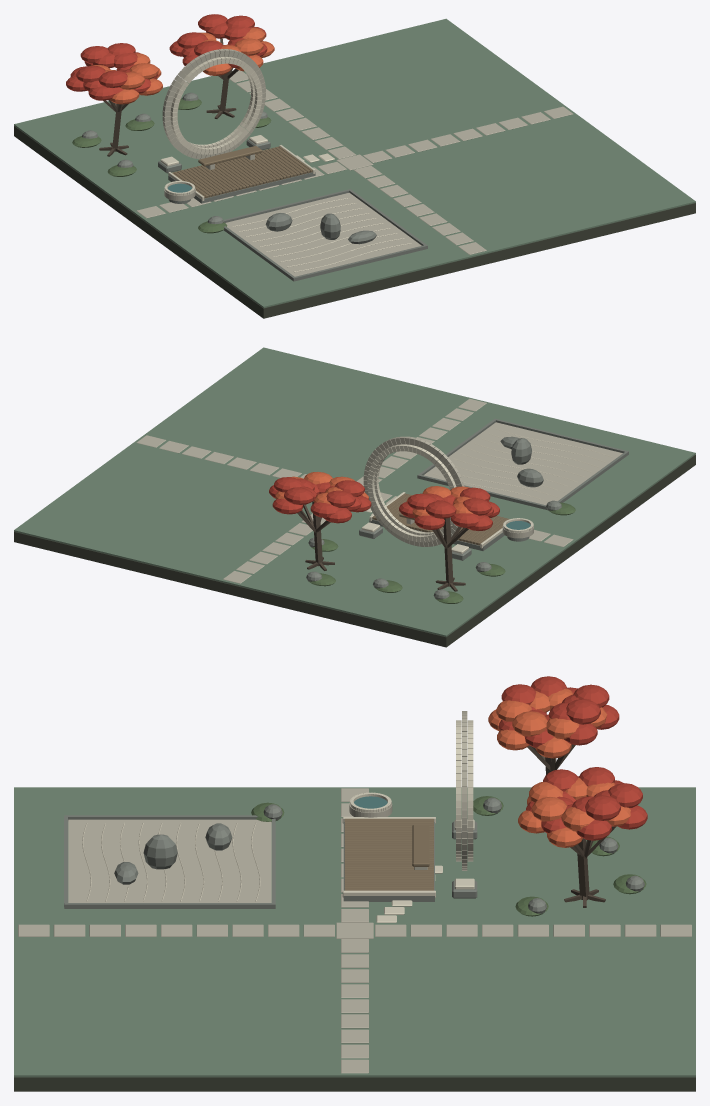
File: quiet_beginning-scene.glb
3 views of the same model, one above another, from view 1: azimuth 30°, elevation 25°; view 2: azimuth 150°, elevation 25°; view 3: azimuth 270°, elevation 25° (orthographic). The views are drawn at different scales.
Parts seen in each view (by area): view 1: runtime_Quiet / celadon turf, runtime_Quiet / warm limestone, runtime_Quiet / earth edge, runtime_Quiet / vermilion leaves, runtime_Quiet / shadow stone, runtime_Quiet / cut stone, runtime_Quiet / silver cedar, runtime_Quiet / copper leaves, runtime_Quiet / moss cushions, runtime_Quiet / maple bark; view 2: runtime_Quiet / celadon turf, runtime_Quiet / warm limestone, runtime_Quiet / earth edge, runtime_Quiet / vermilion leaves, runtime_Quiet / shadow stone, runtime_Quiet / cut stone, runtime_Quiet / maple bark, runtime_Quiet / copper leaves, runtime_Quiet / moss cushions, runtime_Quiet / silver cedar; view 3: runtime_Quiet / celadon turf, runtime_Quiet / warm limestone, runtime_Quiet / earth edge, runtime_Quiet / vermilion leaves, runtime_Quiet / shadow stone, runtime_Quiet / copper leaves, runtime_Quiet / silver cedar, runtime_Quiet / cut stone, runtime_Quiet / maple bark, runtime_Quiet / moss cushions.
Boxes of the visible parts, <box> form: runtime_Quiet / celadon turf: <box>14,18,695,308</box>; runtime_Quiet / warm limestone: <box>137,49,572,276</box>; runtime_Quiet / earth edge: <box>14,126,695,318</box>; runtime_Quiet / vermilion leaves: <box>66,14,267,100</box>; runtime_Quiet / shadow stone: <box>82,92,427,281</box>; runtime_Quiet / cut stone: <box>160,56,411,272</box>; runtime_Quiet / silver cedar: <box>172,146,312,198</box>; runtime_Quiet / copper leaves: <box>91,27,274,104</box>; runtime_Quiet / moss cushions: <box>72,98,271,233</box>; runtime_Quiet / maple bark: <box>99,38,238,156</box>; runtime_Quiet / celadon turf: <box>14,347,695,636</box>; runtime_Quiet / warm limestone: <box>136,398,622,583</box>; runtime_Quiet / earth edge: <box>14,454,695,647</box>; runtime_Quiet / vermilion leaves: <box>269,477,499,530</box>; runtime_Quiet / shadow stone: <box>306,418,628,599</box>; runtime_Quiet / cut stone: <box>361,428,611,553</box>; runtime_Quiet / maple bark: <box>297,501,468,591</box>; runtime_Quiet / copper leaves: <box>275,472,472,517</box>; runtime_Quiet / moss cushions: <box>309,502,575,603</box>; runtime_Quiet / silver cedar: <box>372,493,509,545</box>; runtime_Quiet / celadon turf: <box>14,787,695,1077</box>; runtime_Quiet / warm limestone: <box>18,711,691,1073</box>; runtime_Quiet / earth edge: <box>14,1077,695,1091</box>; runtime_Quiet / vermilion leaves: <box>499,676,647,840</box>; runtime_Quiet / shadow stone: <box>64,797,644,914</box>; runtime_Quiet / copper leaves: <box>488,688,630,847</box>; runtime_Quiet / silver cedar: <box>344,818,433,890</box>; runtime_Quiet / cut stone: <box>82,720,474,922</box>; runtime_Quiet / maple bark: <box>527,744,616,907</box>; runtime_Quiet / moss cushions: <box>251,796,646,916</box>.
Size of the model in its own units: 25.8 by 6.77 by 25.8.
